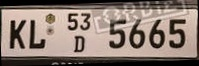character: (128, 16, 146, 49), (8, 18, 27, 49), (148, 17, 166, 49), (108, 18, 126, 49), (168, 17, 186, 48), (28, 18, 45, 49), (66, 11, 79, 31), (73, 33, 85, 53), (79, 11, 90, 30)
